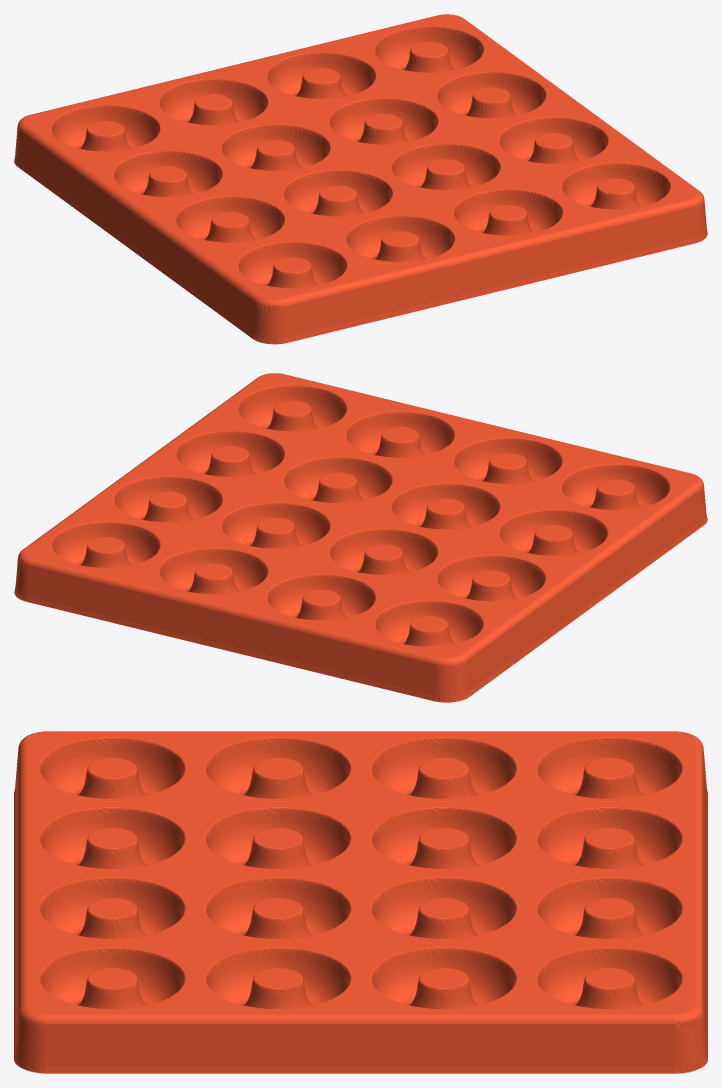
File: mold.glb
3 renders of one model, top to bottom at view 1: azimuth 30°, elevation 25°; view 2: azimuth 150°, elevation 25°; view 3: azimuth 270°, elevation 25°, orthographic. The views are drawn at different scales.
Parts seen in each view (by area): view 1: geometry_0; view 2: geometry_0; view 3: geometry_0.
Boxes of the visible parts, box(x1,y1,x2,y2) form: geometry_0: box(14, 14, 707, 344); geometry_0: box(14, 373, 707, 702); geometry_0: box(14, 731, 707, 1073).
Bounding box in the file's own units: 0.1856 × 0.0159 × 0.1856.
